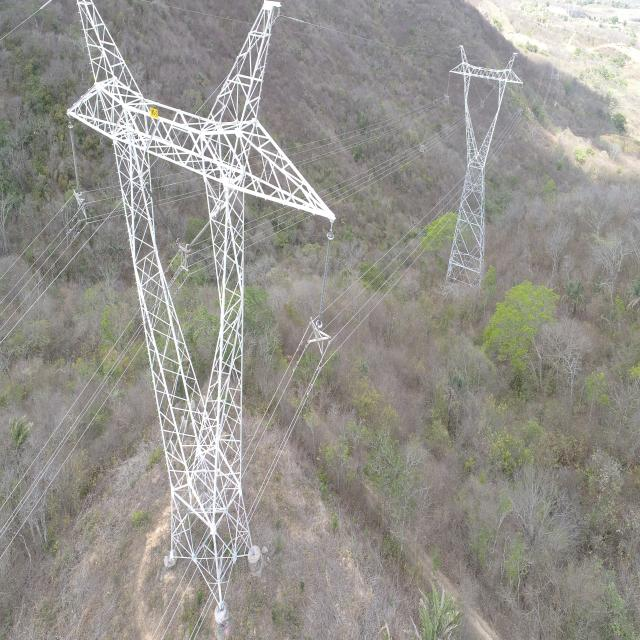杆塔: (66, 2, 334, 619), (443, 48, 523, 287)
正常电缆: (146, 325, 310, 640), (181, 356, 326, 640), (2, 340, 146, 556), (3, 313, 137, 511), (336, 209, 452, 338), (337, 196, 457, 319), (0, 218, 106, 353), (342, 178, 460, 298), (338, 231, 441, 356), (285, 8, 443, 65), (0, 216, 73, 305), (0, 198, 66, 289), (0, 234, 67, 319), (0, 0, 62, 53)
正常绝缘子: (307, 223, 341, 344), (61, 110, 89, 209), (444, 70, 452, 101), (519, 83, 524, 114)
